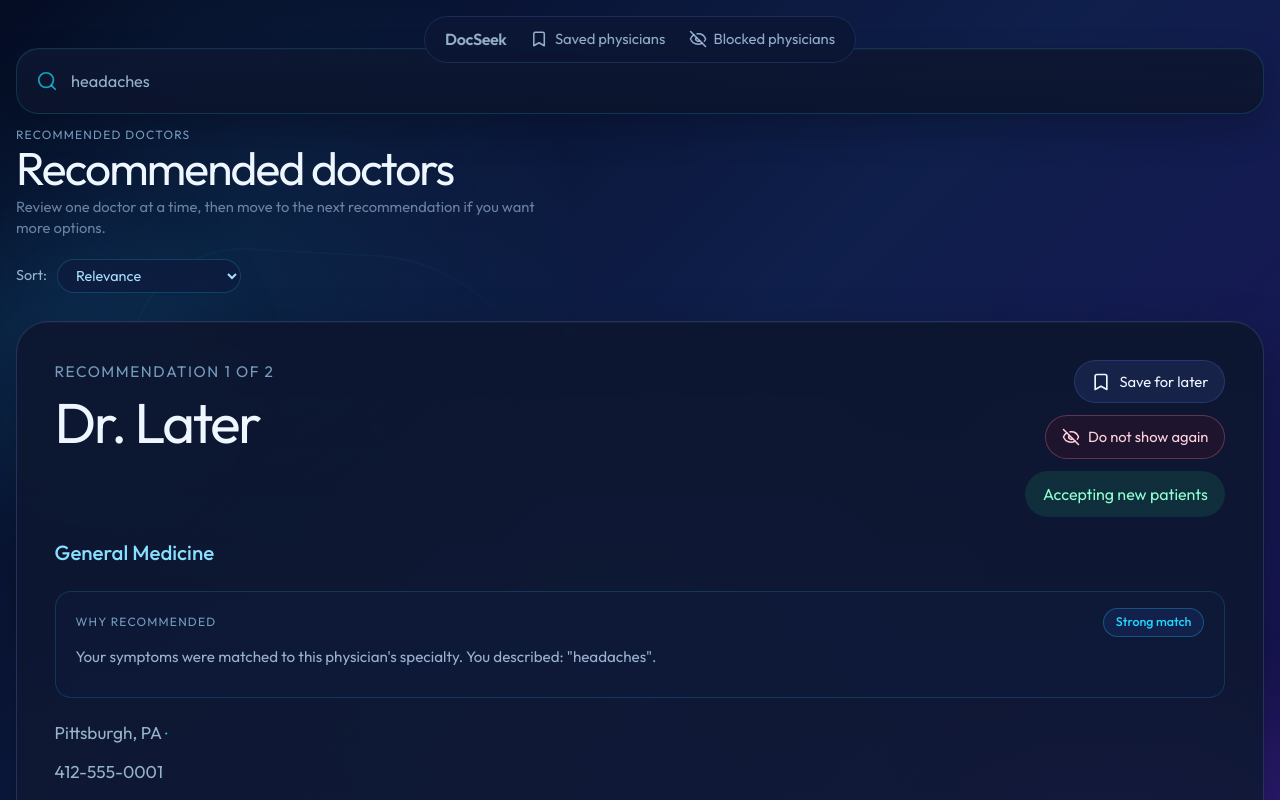
it: ResultsPage › changing sort dropdown to earliest appointment reorders doctors by next_available
Expected: the heading "Dr. Later" is shown, [55,395,274,450]
Select "Earliest appointment" in the dropdown named "Sort results". click: [149, 276]
box: [57,259,241,293]
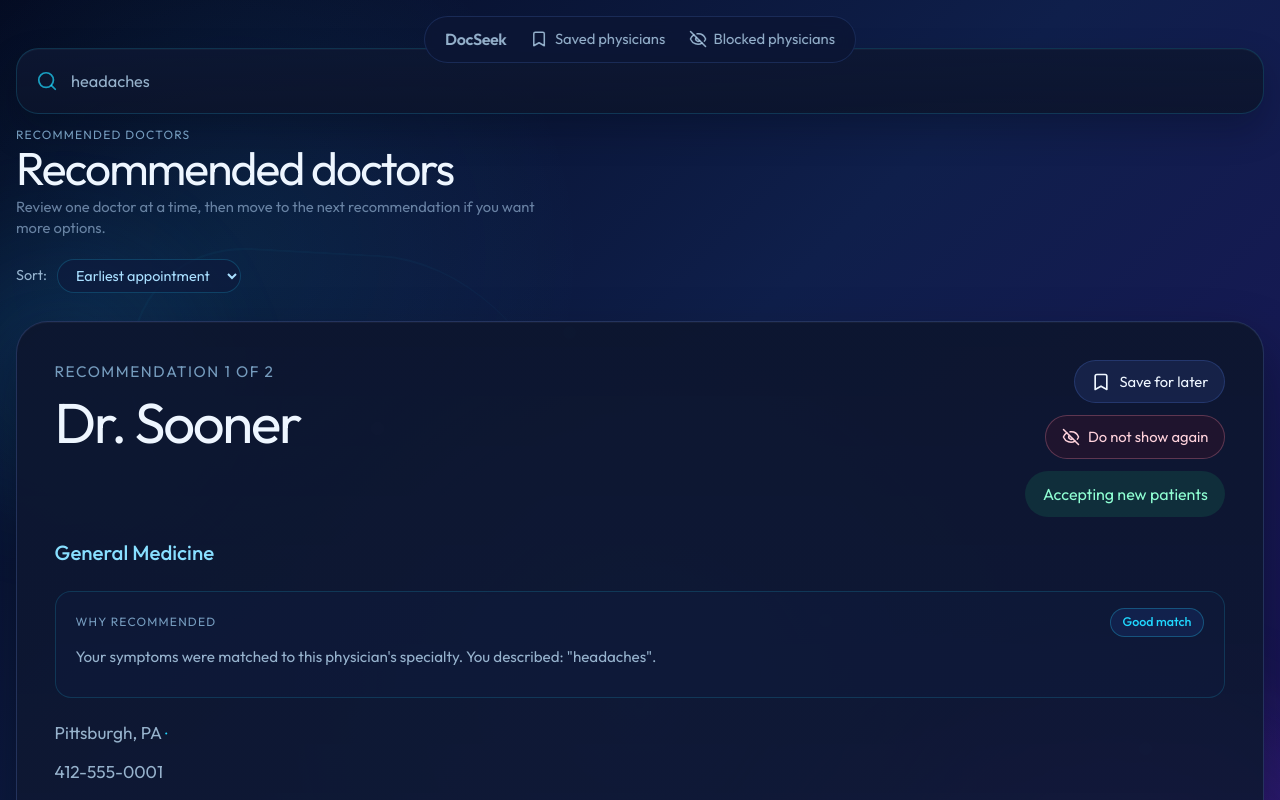
Expected: the heading "Dr. Sooner" is shown, [55,395,300,450]
